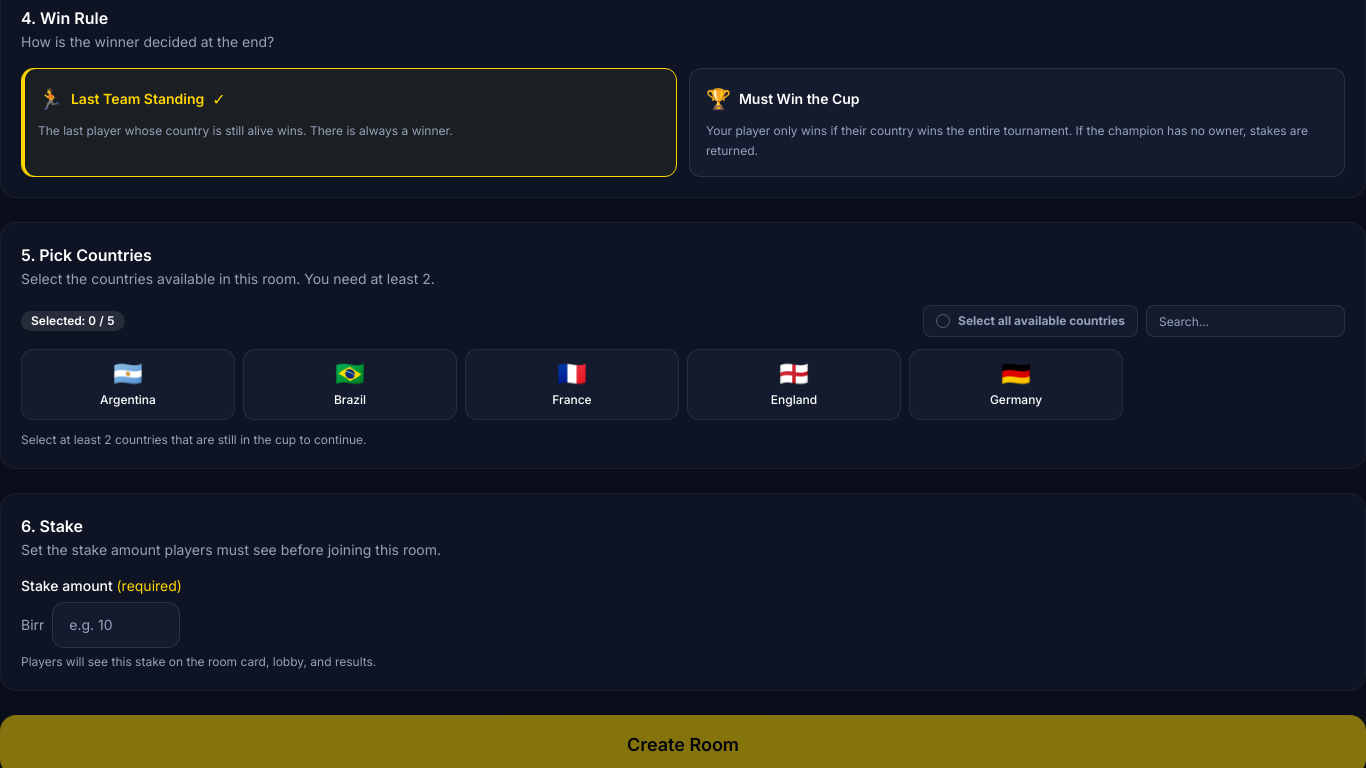
Scenario: CreateRoomForm › keeps submit disabled until a stake is entered
(page scrolled)
Click the checkbox with test id "country-card-ARG" at (128, 384), box [21, 349, 235, 420]
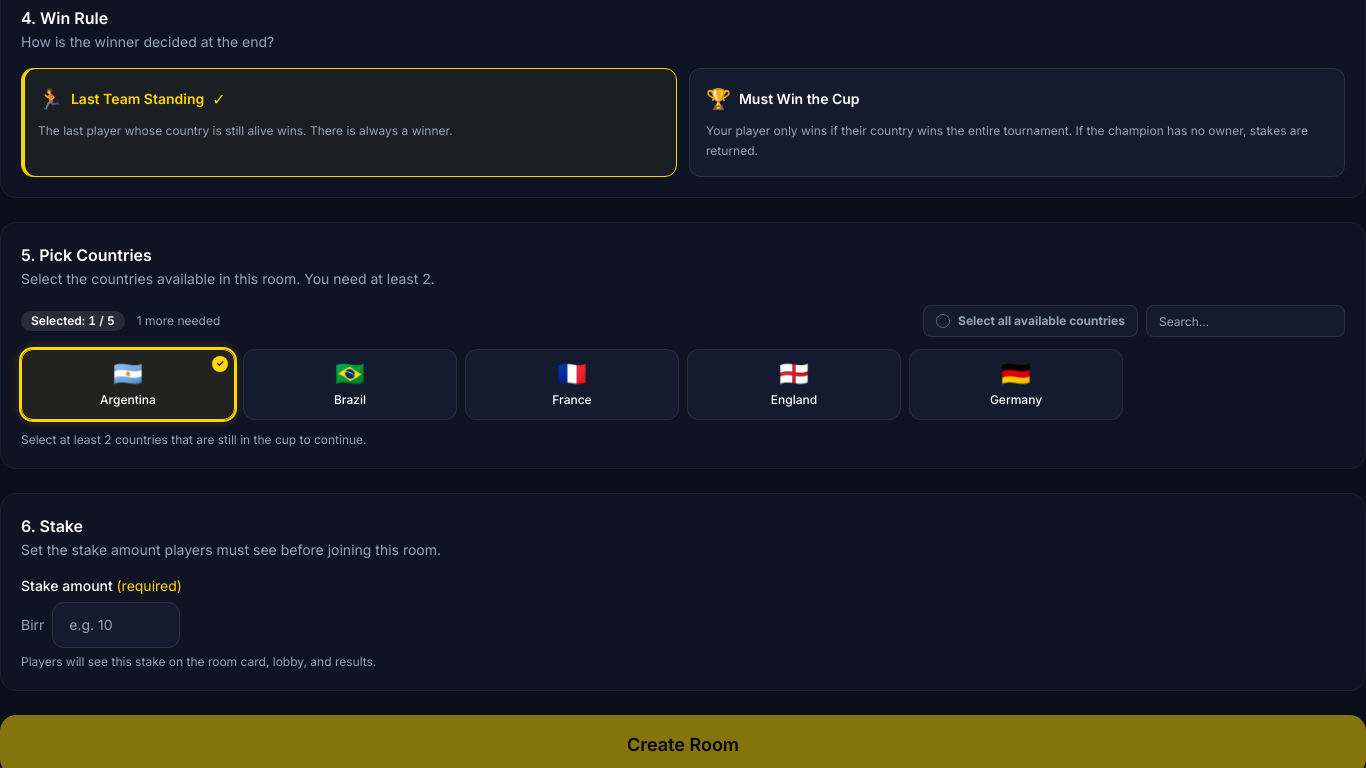
Click the checkbox labelled "🇧🇷 Brazil" at (350, 384), box [243, 349, 457, 420]
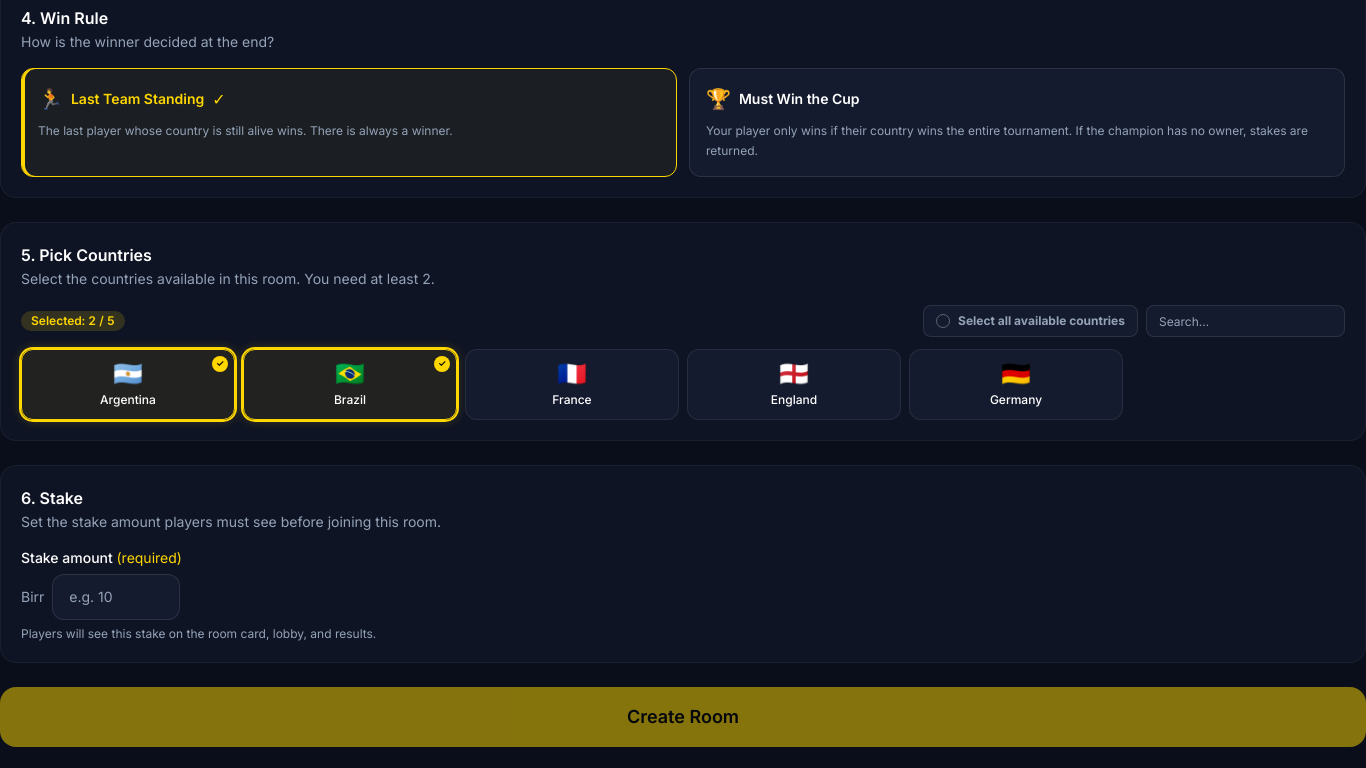
Expected: the button with test id "create-room-submit" is disabled, [0, 687, 1365, 747]
Type "10" into the number field labelled "Stake amount (required)" at (116, 597), box [52, 574, 180, 620]
(page scrolled)
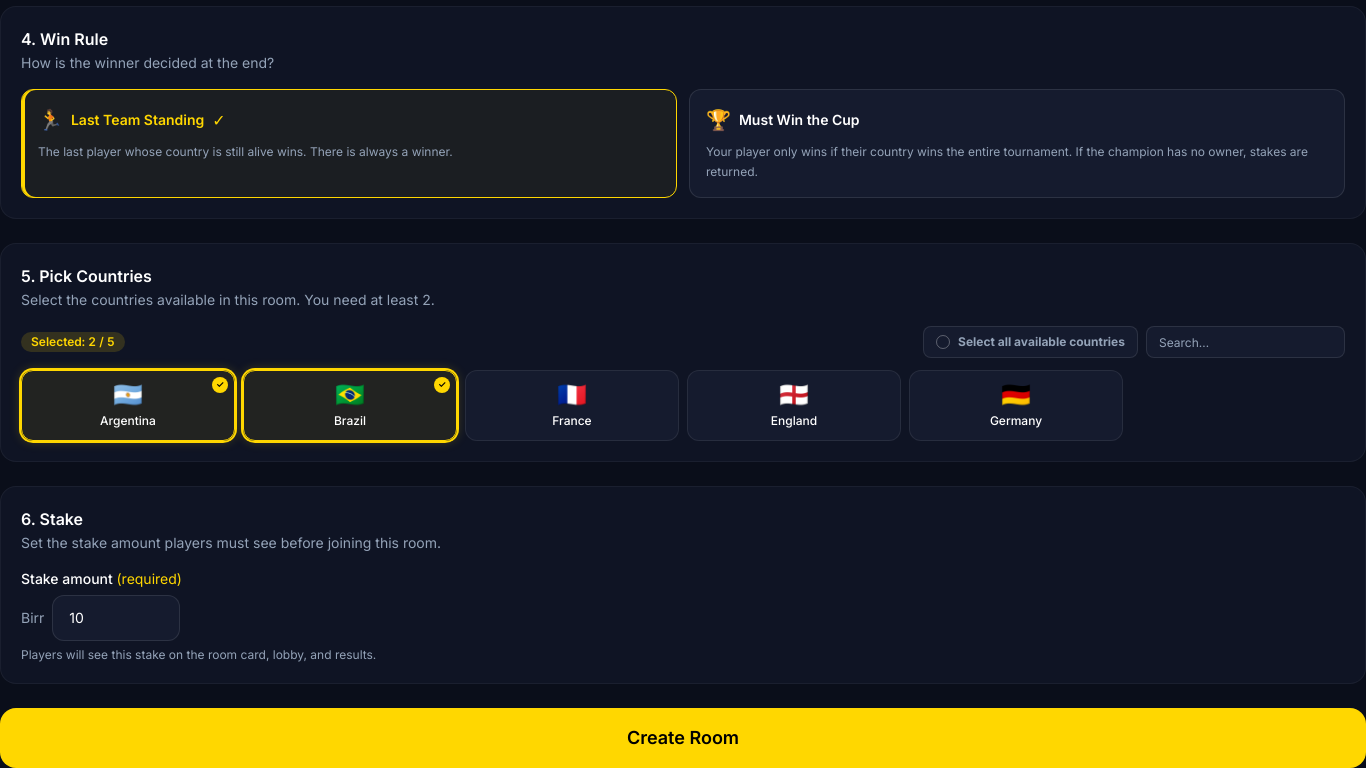
Expected: the button with test id "create-room-submit" is enabled, [0, 708, 1365, 767]
